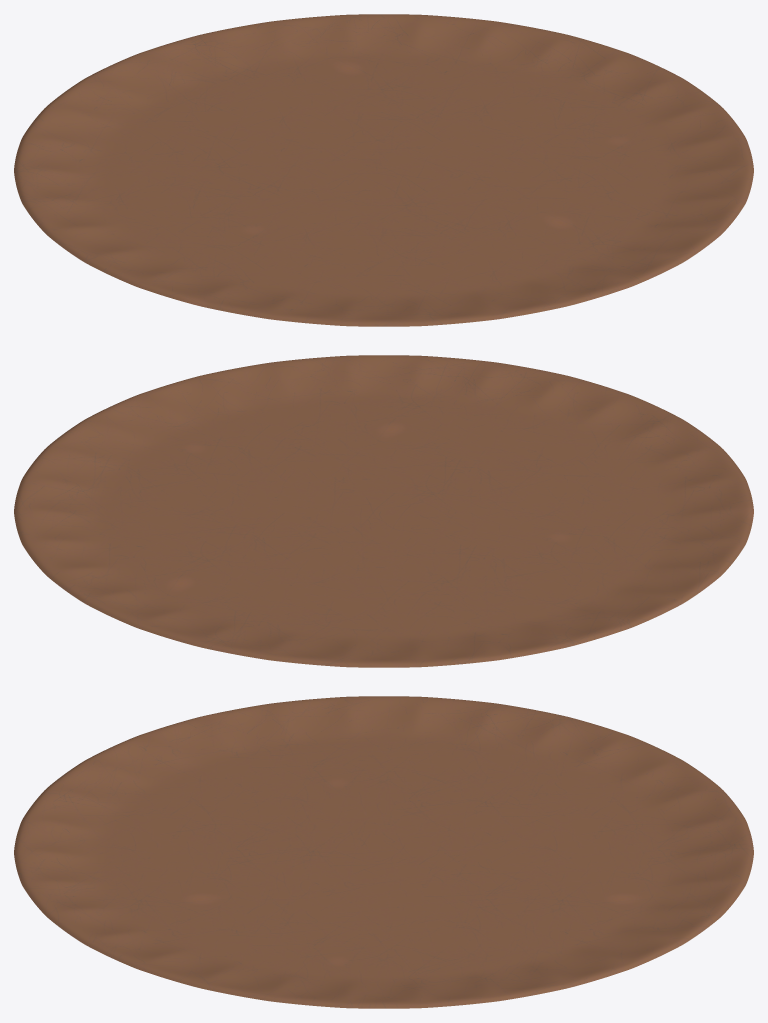
File: CopperTable.fbx
3 views of the same model, one above another, from view 1: azimuth 30°, elevation 25°; view 2: azimuth 150°, elevation 25°; view 3: azimuth 270°, elevation 25° (orthographic).
Visible parts, largest first — view 1: Table; view 2: Table; view 3: Table.
Part boxes in pixels (<box>): Table: <box>14,14,753,326</box>; Table: <box>14,355,753,667</box>; Table: <box>14,696,753,1008</box>.
Bounding box in the file's own units: 8.78 × 0.0999 × 8.77.
